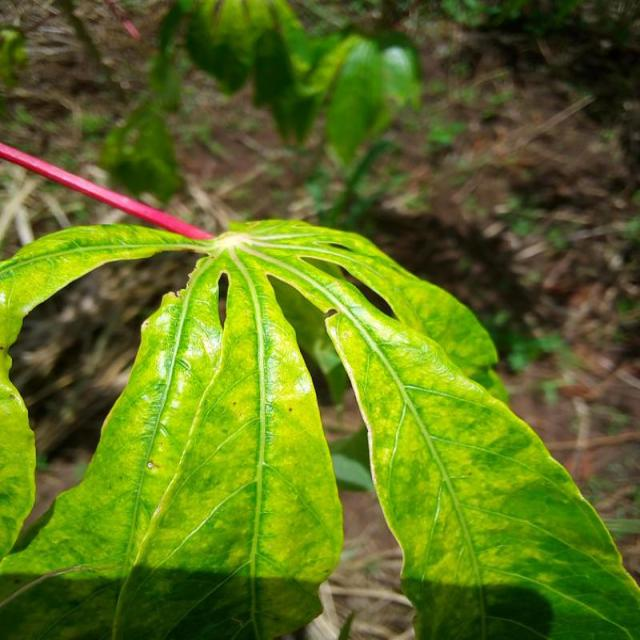cassava leaf: (0, 216, 638, 638), (324, 294, 638, 638)
